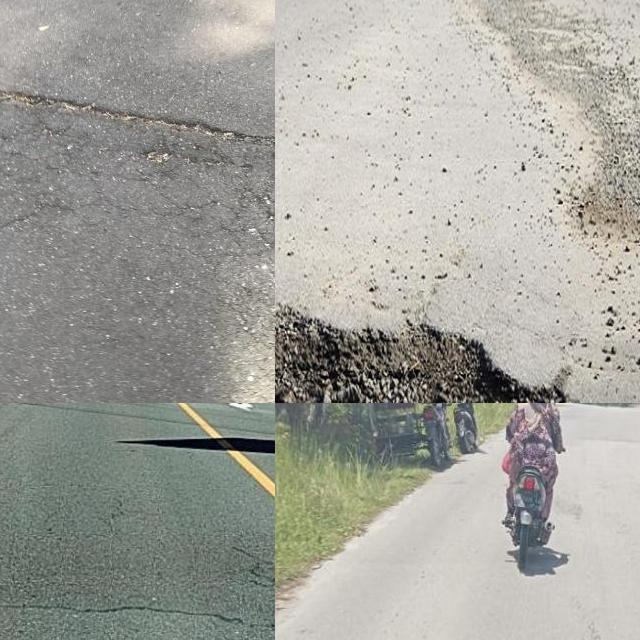Lubang: (275, 315, 561, 403)
Melintang: (0, 78, 275, 173), (0, 596, 258, 640)
